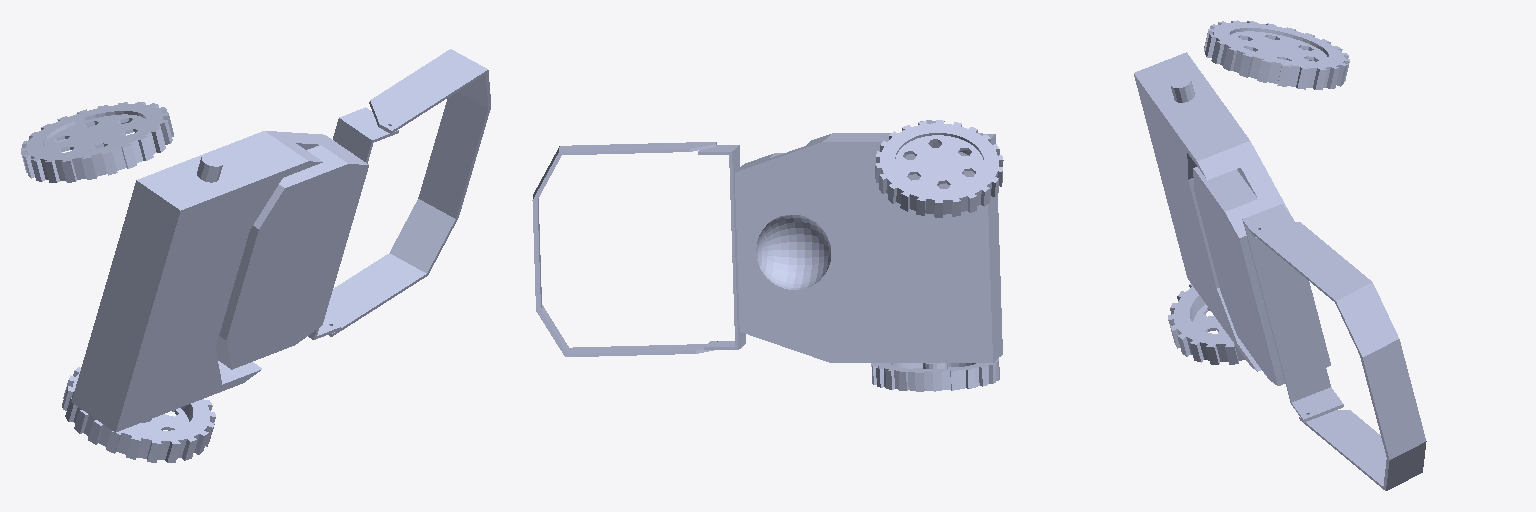
robot.urdf — robot_1:
<?xml version="1.0" encoding="utf-8"?>
<!-- This URDF was automatically created by SolidWorks to URDF Exporter! Originally created by [author] ([email redacted]) 
     Commit Version: 1.6.0-1-g15f4949  Build Version: 1.6.7594.29634
     For more information, please see http://wiki.ros.org/sw_urdf_exporter -->
<robot
  name="robot_1">
  <link
    name="base_link">
    <inertial>
      <origin
        xyz="0.0030659 -0.039986 -1.2725E-18"
        rpy="0 0 0" />
      <mass
        value="5" />
      <inertia
        ixx="0.099402"
        ixy="0.00070311"
        ixz="-2.0017E-17"
        iyy="0.22181"
        iyz="-7.3082E-18"
        izz="0.13288" />
    </inertial>
    <visual>
      <origin
        xyz="0 0 0"
        rpy="0 0 0" />
      <geometry>
        <mesh
          filename="package://robot_1/meshes/base_link.STL" />
      </geometry>
      <material
        name="">
        <color
          rgba="0.79216 0.81961 0.93333 1" />
      </material>
    </visual>
    <collision>
      <origin
        xyz="0 0 0"
        rpy="0 0 0" />
      <geometry>
        <mesh
          filename="package://robot_1/meshes/base_link.STL" />
      </geometry>
    </collision>
  </link>
  <link
    name="R_Link">
    <inertial>
      <origin
        xyz="0.015916 0 4.8572E-17"
        rpy="0 0 0" />
      <mass
        value="0.5" />
      <inertia
        ixx="0.0030661"
        ixy="2.783E-19"
        ixz="-9.1783E-20"
        iyy="0.0015677"
        iyz="3.6253E-19"
        izz="0.0015677" />
    </inertial>
    <visual>
      <origin
        xyz="0 0 0"
        rpy="0 0 0" />
      <geometry>
        <mesh
          filename="package://robot_1/meshes/R_Link.STL" />
      </geometry>
      <material
        name="">
        <color
          rgba="0.79216 0.81961 0.93333 1" />
      </material>
    </visual>
    <collision>
      <origin
        xyz="0 0 0"
        rpy="0 0 0" />
      <geometry>
        <mesh
          filename="package://robot_1/meshes/R_Link.STL" />
      </geometry>
    </collision>
  </link>
  <joint
    name="Right_Joint"
    type="continuous">
    <origin
      xyz="-0.082008 -0.04 -0.18"
      rpy="1.5832 1.5708 0" />
    <parent
      link="base_link" />
    <child
      link="R_Link" />
    <axis
      xyz="1 0 0" />
  </joint>
  <link
    name="Left_Link">
    <inertial>
      <origin
        xyz="0.37592 -1.3184E-16 0"
        rpy="0 0 0" />
      <mass
        value="0.5" />
      <inertia
        ixx="0.0030661"
        ixy="4.678E-20"
        ixz="-3.5818E-19"
        iyy="0.0015677"
        iyz="2.7105E-19"
        izz="0.0015677" />
    </inertial>
    <visual>
      <origin
        xyz="0 0 0"
        rpy="0 0 0" />
      <geometry>
        <mesh
          filename="package://robot_1/meshes/Left_Link.STL" />
      </geometry>
      <material
        name="">
        <color
          rgba="0.79216 0.81961 0.93333 1" />
      </material>
    </visual>
    <collision>
      <origin
        xyz="0 0 0"
        rpy="0 0 0" />
      <geometry>
        <mesh
          filename="package://robot_1/meshes/Left_Link.STL" />
      </geometry>
    </collision>
  </link>
  <joint
    name="Left_Joint"
    type="continuous">
    <origin
      xyz="-0.082008 -0.04 -0.18"
      rpy="0.13675 -1.5708 0" />
    <parent
      link="base_link" />
    <child
      link="Left_Link" />
    <axis
      xyz="1 0 0" />
  </joint>
  <link
    name="Gripper_Link">
    <inertial>
      <origin
        xyz="-0.00034054 -0.1525 0.029974"
        rpy="0 0 0" />
      <mass
        value="1" />
      <inertia
        ixx="0.0015375"
        ixy="1.9323E-19"
        ixz="1.5842E-07"
        iyy="7.9169E-05"
        iyz="-7.0054E-22"
        izz="0.0015394" />
    </inertial>
    <visual>
      <origin
        xyz="0 0 0"
        rpy="0 0 0" />
      <geometry>
        <mesh
          filename="package://robot_1/meshes/Gripper_Link.STL" />
      </geometry>
      <material
        name="">
        <color
          rgba="0.79216 0.81961 0.93333 1" />
      </material>
    </visual>
    <collision>
      <origin
        xyz="0 0 0"
        rpy="0 0 0" />
      <geometry>
        <mesh
          filename="package://robot_1/meshes/Gripper_Link.STL" />
      </geometry>
    </collision>
  </link>
  <joint
    name="Gripper_Joint"
    type="fixed">
    <origin
      xyz="0.22986 -0.01 0.1525"
      rpy="1.5708 0 0" />
    <parent
      link="base_link" />
    <child
      link="Gripper_Link" />
    <axis
      xyz="0 0 0" />
  </joint>
  <link
    name="Slider_Link">
    <inertial>
      <origin
        xyz="0.1525 0.1949 -0.019552"
        rpy="0 0 0" />
      <mass
        value="1" />
      <inertia
        ixx="0.0022843"
        ixy="5.3543E-18"
        ixz="-6.6132E-19"
        iyy="0.0048941"
        iyz="2.4421E-05"
        izz="0.0070064" />
    </inertial>
    <visual>
      <origin
        xyz="0 0 0"
        rpy="0 0 0" />
      <geometry>
        <mesh
          filename="package://robot_1/meshes/Slider_Link.STL" />
      </geometry>
      <material
        name="">
        <color
          rgba="0.79216 0.81961 0.93333 1" />
      </material>
    </visual>
    <collision>
      <origin
        xyz="0 0 0"
        rpy="0 0 0" />
      <geometry>
        <mesh
          filename="package://robot_1/meshes/Slider_Link.STL" />
      </geometry>
    </collision>
  </link>
  <joint
    name="Slider_Joint"
    type="continuous">
    <origin
      xyz="0.04 0 0.05"
      rpy="3.1133 0 -1.5708" />
    <parent
      link="Gripper_Link" />
    <child
      link="Slider_Link" />
    <axis
      xyz="1 0 0" />
    <limit
      lower="0"
      upper="3.1428"
      effort="0"
      velocity="0" />
  </joint>
</robot>

--- Facts derived from the render (not from the file) ---
Views: 3 orthographic renders of the robot side by side, from view 1: azimuth 30°, elevation 25°; view 2: azimuth 150°, elevation 25°; view 3: azimuth 270°, elevation 25°.
Robot: robot_1 — 5 links, 4 joints (3 continuous, 1 fixed); root link base_link; default pose: all joints at 0.
Links seen in each view (by area): view 1: base_link, Slider_Link, Left_Link, R_Link, Gripper_Link; view 2: base_link, Left_Link, Slider_Link, R_Link, Gripper_Link; view 3: base_link, Slider_Link, Gripper_Link, Left_Link, R_Link.
Link boxes in pixels (x1=…): base_link: x1=71, y1=131, x2=368, y2=432; Slider_Link: x1=325, y1=49, x2=490, y2=336; Left_Link: x1=21, y1=102, x2=173, y2=182; R_Link: x1=62, y1=367, x2=215, y2=462; Gripper_Link: x1=308, y1=107, x2=398, y2=339; base_link: x1=735, y1=120, x2=1002, y2=362; Left_Link: x1=875, y1=120, x2=1003, y2=217; Slider_Link: x1=532, y1=142, x2=716, y2=356; R_Link: x1=871, y1=358, x2=999, y2=391; Gripper_Link: x1=698, y1=145, x2=745, y2=349; base_link: x1=1134, y1=52, x2=1330, y2=385; Slider_Link: x1=1250, y1=222, x2=1426, y2=490; Gripper_Link: x1=1242, y1=204, x2=1343, y2=422; Left_Link: x1=1204, y1=20, x2=1349, y2=89; R_Link: x1=1168, y1=284, x2=1245, y2=364.
Size in the robot's own frame: 0.7647 by 0.4035 by 0.4579 metres.
Meshes: 5 distinct files referenced, 5 mesh visuals loaded (5 binary STL).